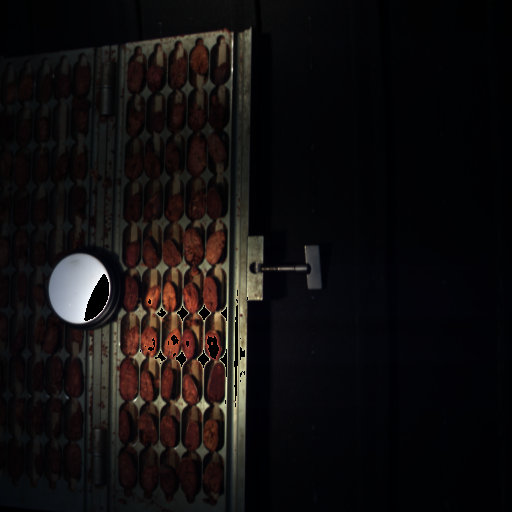bueno: (211, 106, 229, 130)
malo: (64, 358, 83, 396), (120, 359, 138, 399), (208, 363, 224, 404), (139, 412, 158, 445), (204, 188, 224, 218), (180, 460, 196, 497), (161, 414, 178, 447), (181, 375, 198, 406), (119, 453, 134, 488), (122, 278, 138, 310), (66, 447, 82, 478), (185, 418, 200, 451), (147, 62, 163, 91), (67, 411, 82, 441), (30, 404, 45, 434), (118, 412, 132, 443), (161, 367, 174, 400), (126, 193, 141, 220), (68, 189, 84, 214), (183, 329, 196, 359), (149, 104, 163, 131), (146, 194, 161, 219), (123, 245, 139, 268), (56, 74, 71, 97), (15, 448, 28, 474), (162, 464, 173, 494), (214, 62, 229, 83), (144, 242, 157, 266), (31, 364, 43, 389), (17, 401, 28, 426), (12, 334, 25, 352), (2, 81, 14, 100)
parcial: (186, 135, 203, 173), (205, 464, 223, 498), (185, 230, 204, 262), (203, 277, 220, 311), (42, 324, 61, 354), (208, 136, 226, 166), (204, 422, 221, 452), (207, 232, 224, 262), (122, 322, 138, 353), (126, 147, 142, 177), (163, 239, 181, 265), (140, 464, 156, 493), (186, 191, 202, 220), (126, 61, 140, 93), (74, 65, 88, 97), (190, 47, 207, 73), (140, 371, 154, 402), (143, 325, 157, 356), (144, 150, 159, 177), (14, 194, 29, 221), (164, 282, 178, 310), (170, 61, 185, 87), (185, 282, 198, 312), (36, 120, 52, 144), (168, 193, 182, 220), (173, 100, 186, 129), (17, 156, 30, 185), (166, 147, 180, 173), (74, 111, 89, 133), (130, 112, 143, 137), (17, 119, 29, 146), (50, 360, 62, 387), (190, 108, 204, 130), (48, 448, 60, 473), (146, 284, 159, 307), (35, 159, 49, 180), (38, 77, 50, 100), (73, 157, 86, 178), (54, 156, 66, 177), (30, 285, 43, 304), (35, 243, 46, 263)
